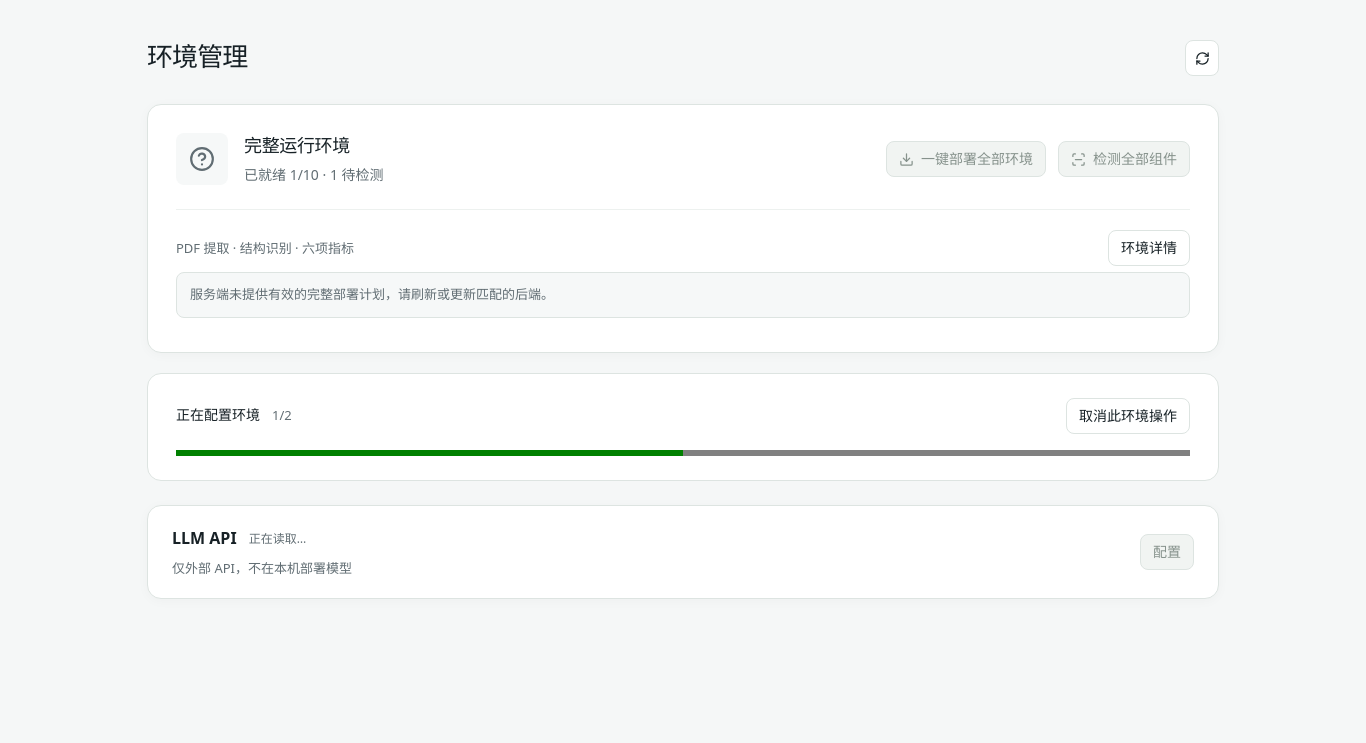
marks last-known progress stale after polling errors and disables cancellation until a real read
Check: the element named "环境配置进度" is shown, box [147, 373, 1219, 481]
Click the button named "刷新环境目录": (1202, 58) [1185, 40, 1219, 76]
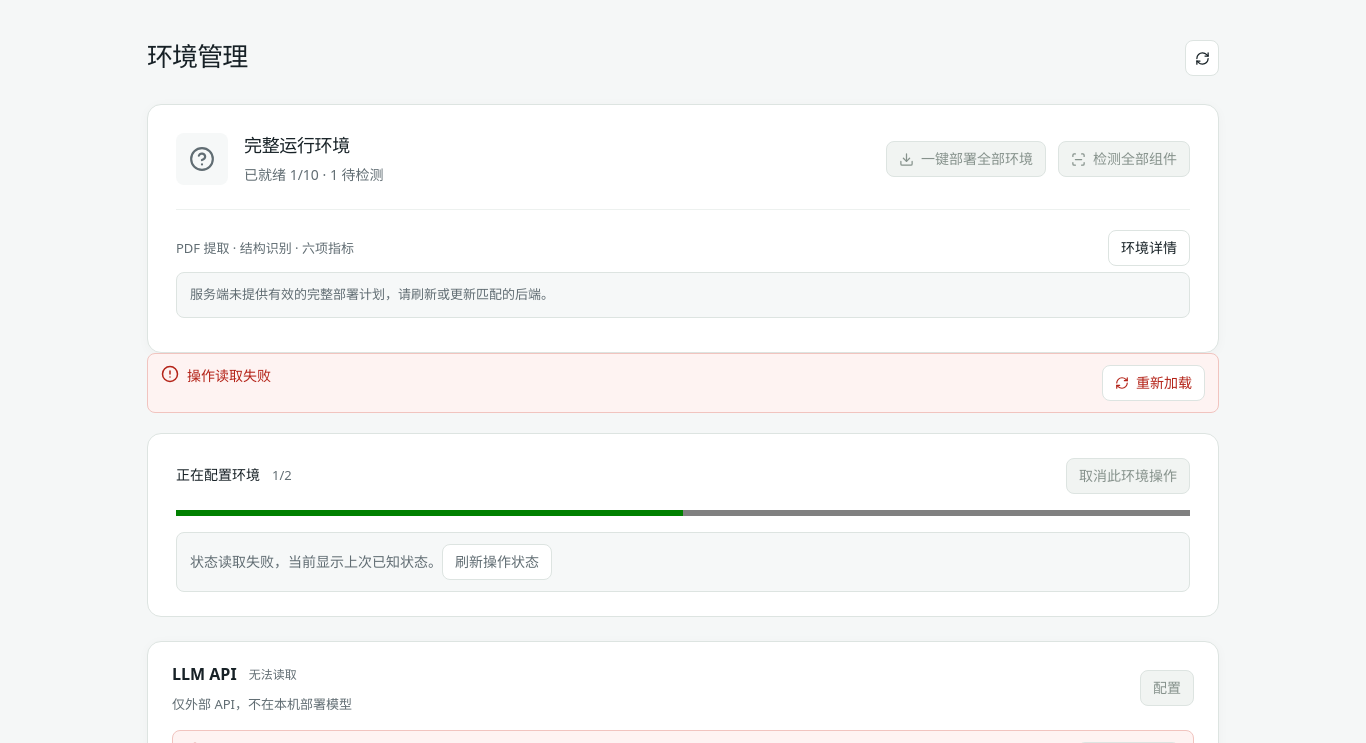
Check: the text "状态读取失败，当前显示上次已知状态。 刷新操作状态" is shown, box [176, 532, 1190, 592]
Check: the button "取消此环境操作" is disabled, box [1066, 458, 1190, 494]
